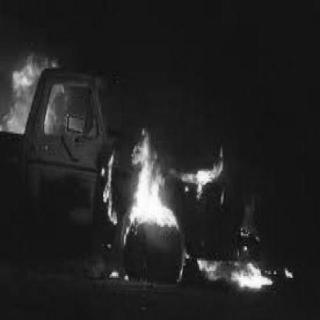Fire: (105, 261, 131, 275)
